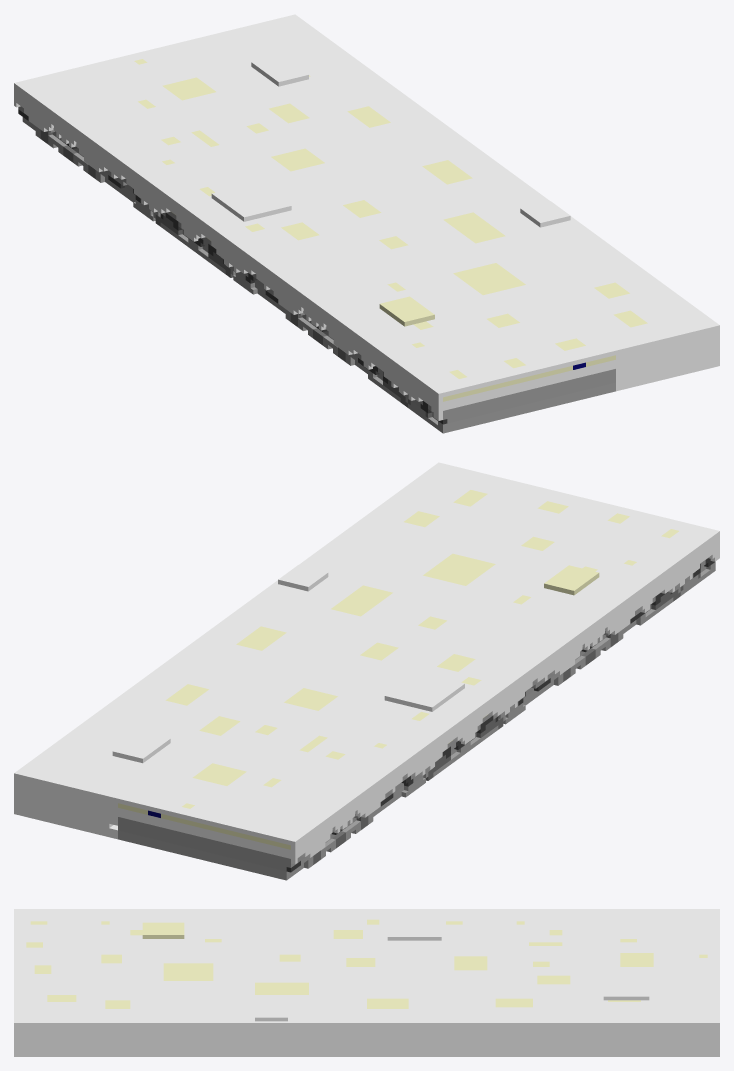
The model's file is road.obj.
The picture shows the model from 3 angles, top to bottom: view 1: azimuth 30°, elevation 25°; view 2: azimuth 150°, elevation 25°; view 3: azimuth 270°, elevation 25°; orthographic projection. The views are drawn at different scales.
Bounding box in the file's own units: 6.5 × 1 × 17.
1 material, 1 textured.
